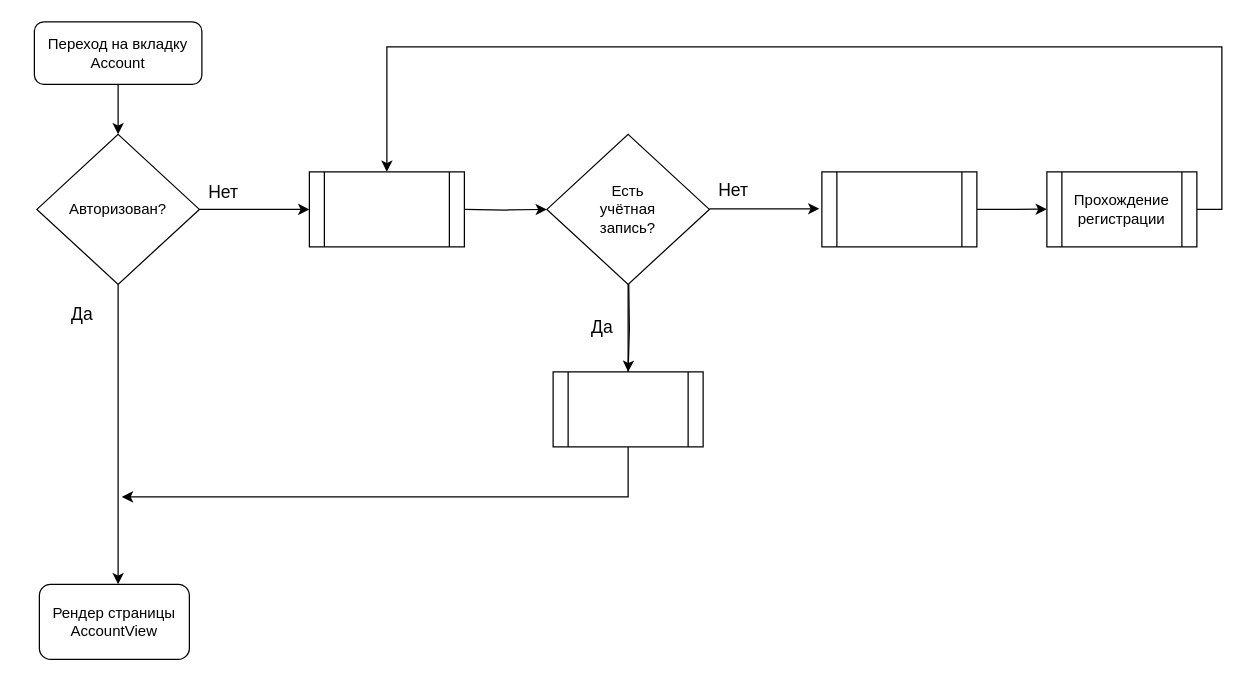
The diagram is 1254 pixels wide and 681 high, and some of its shapes have lost their labels. The shapes that lost their labels are listed below. From the top down, each one's centre as x and y in pixels, then its label:
At point (386, 209): "Рендер AuthorizationView".
At point (899, 209): "Рендер RegistrationView".
At point (627, 409): "Выполнение авторизации".
